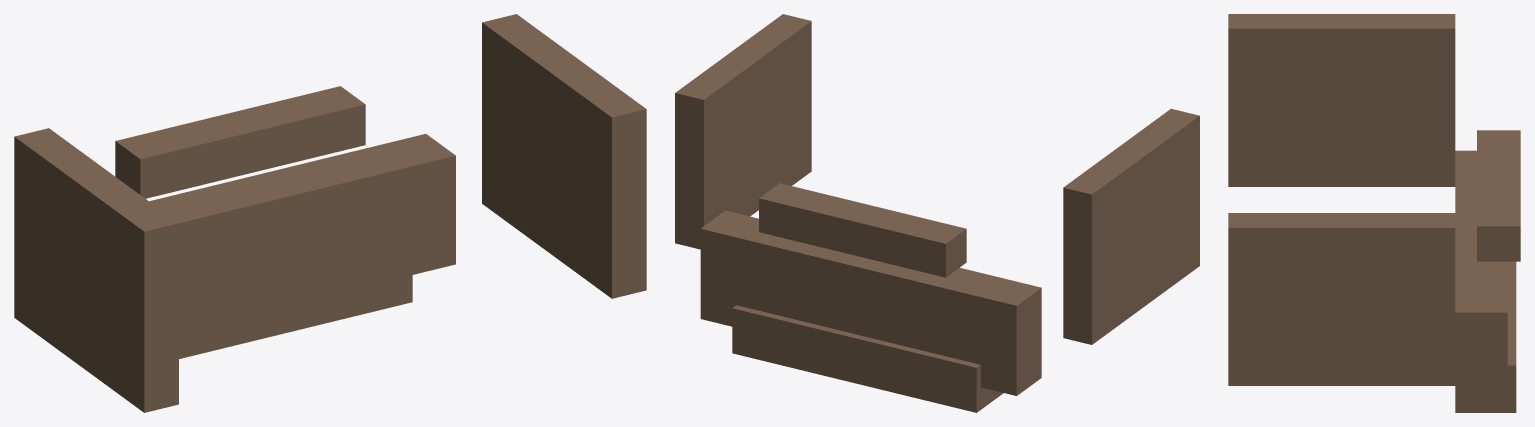
Rendered from barba_curta.glb.
The picture shows the model from 3 angles, left to right: view 1: azimuth 30°, elevation 25°; view 2: azimuth 150°, elevation 25°; view 3: azimuth 270°, elevation 25°; orthographic projection. The views are drawn at different scales.
Parts seen in each view (by area): view 1: barba_curta; view 2: barba_curta; view 3: barba_curta.
Part boxes in pixels (box(x1,y1,x2,y2)): barba_curta: box(14, 14, 646, 412); barba_curta: box(675, 14, 1199, 412); barba_curta: box(1228, 14, 1520, 412).
Bounding box in the file's own units: 0.58 × 0.29 × 0.335.
